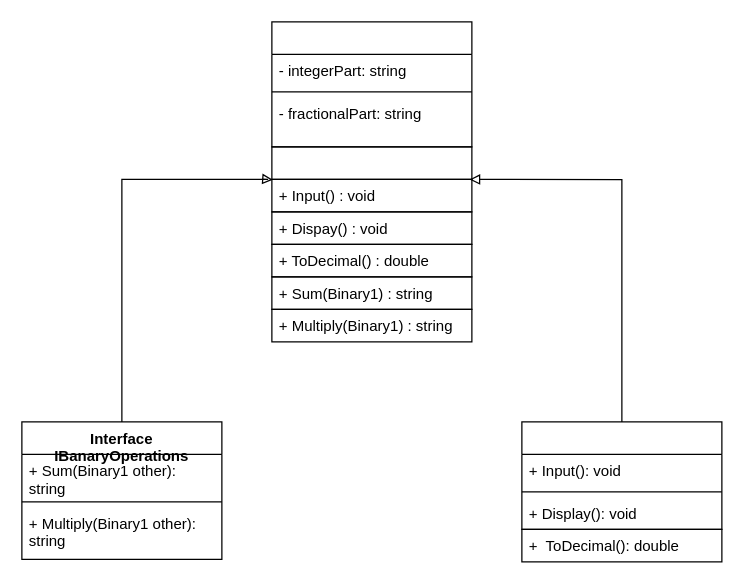
Image size: 744x588. Some labels were removed from this diagram. Here are the shapes that lost their labels. From the top down, the box of each, then its label:
(271, 21, 472, 147): Binary1
(271, 146, 472, 179): + Binary1()
(521, 421, 722, 529): BinaryBase
